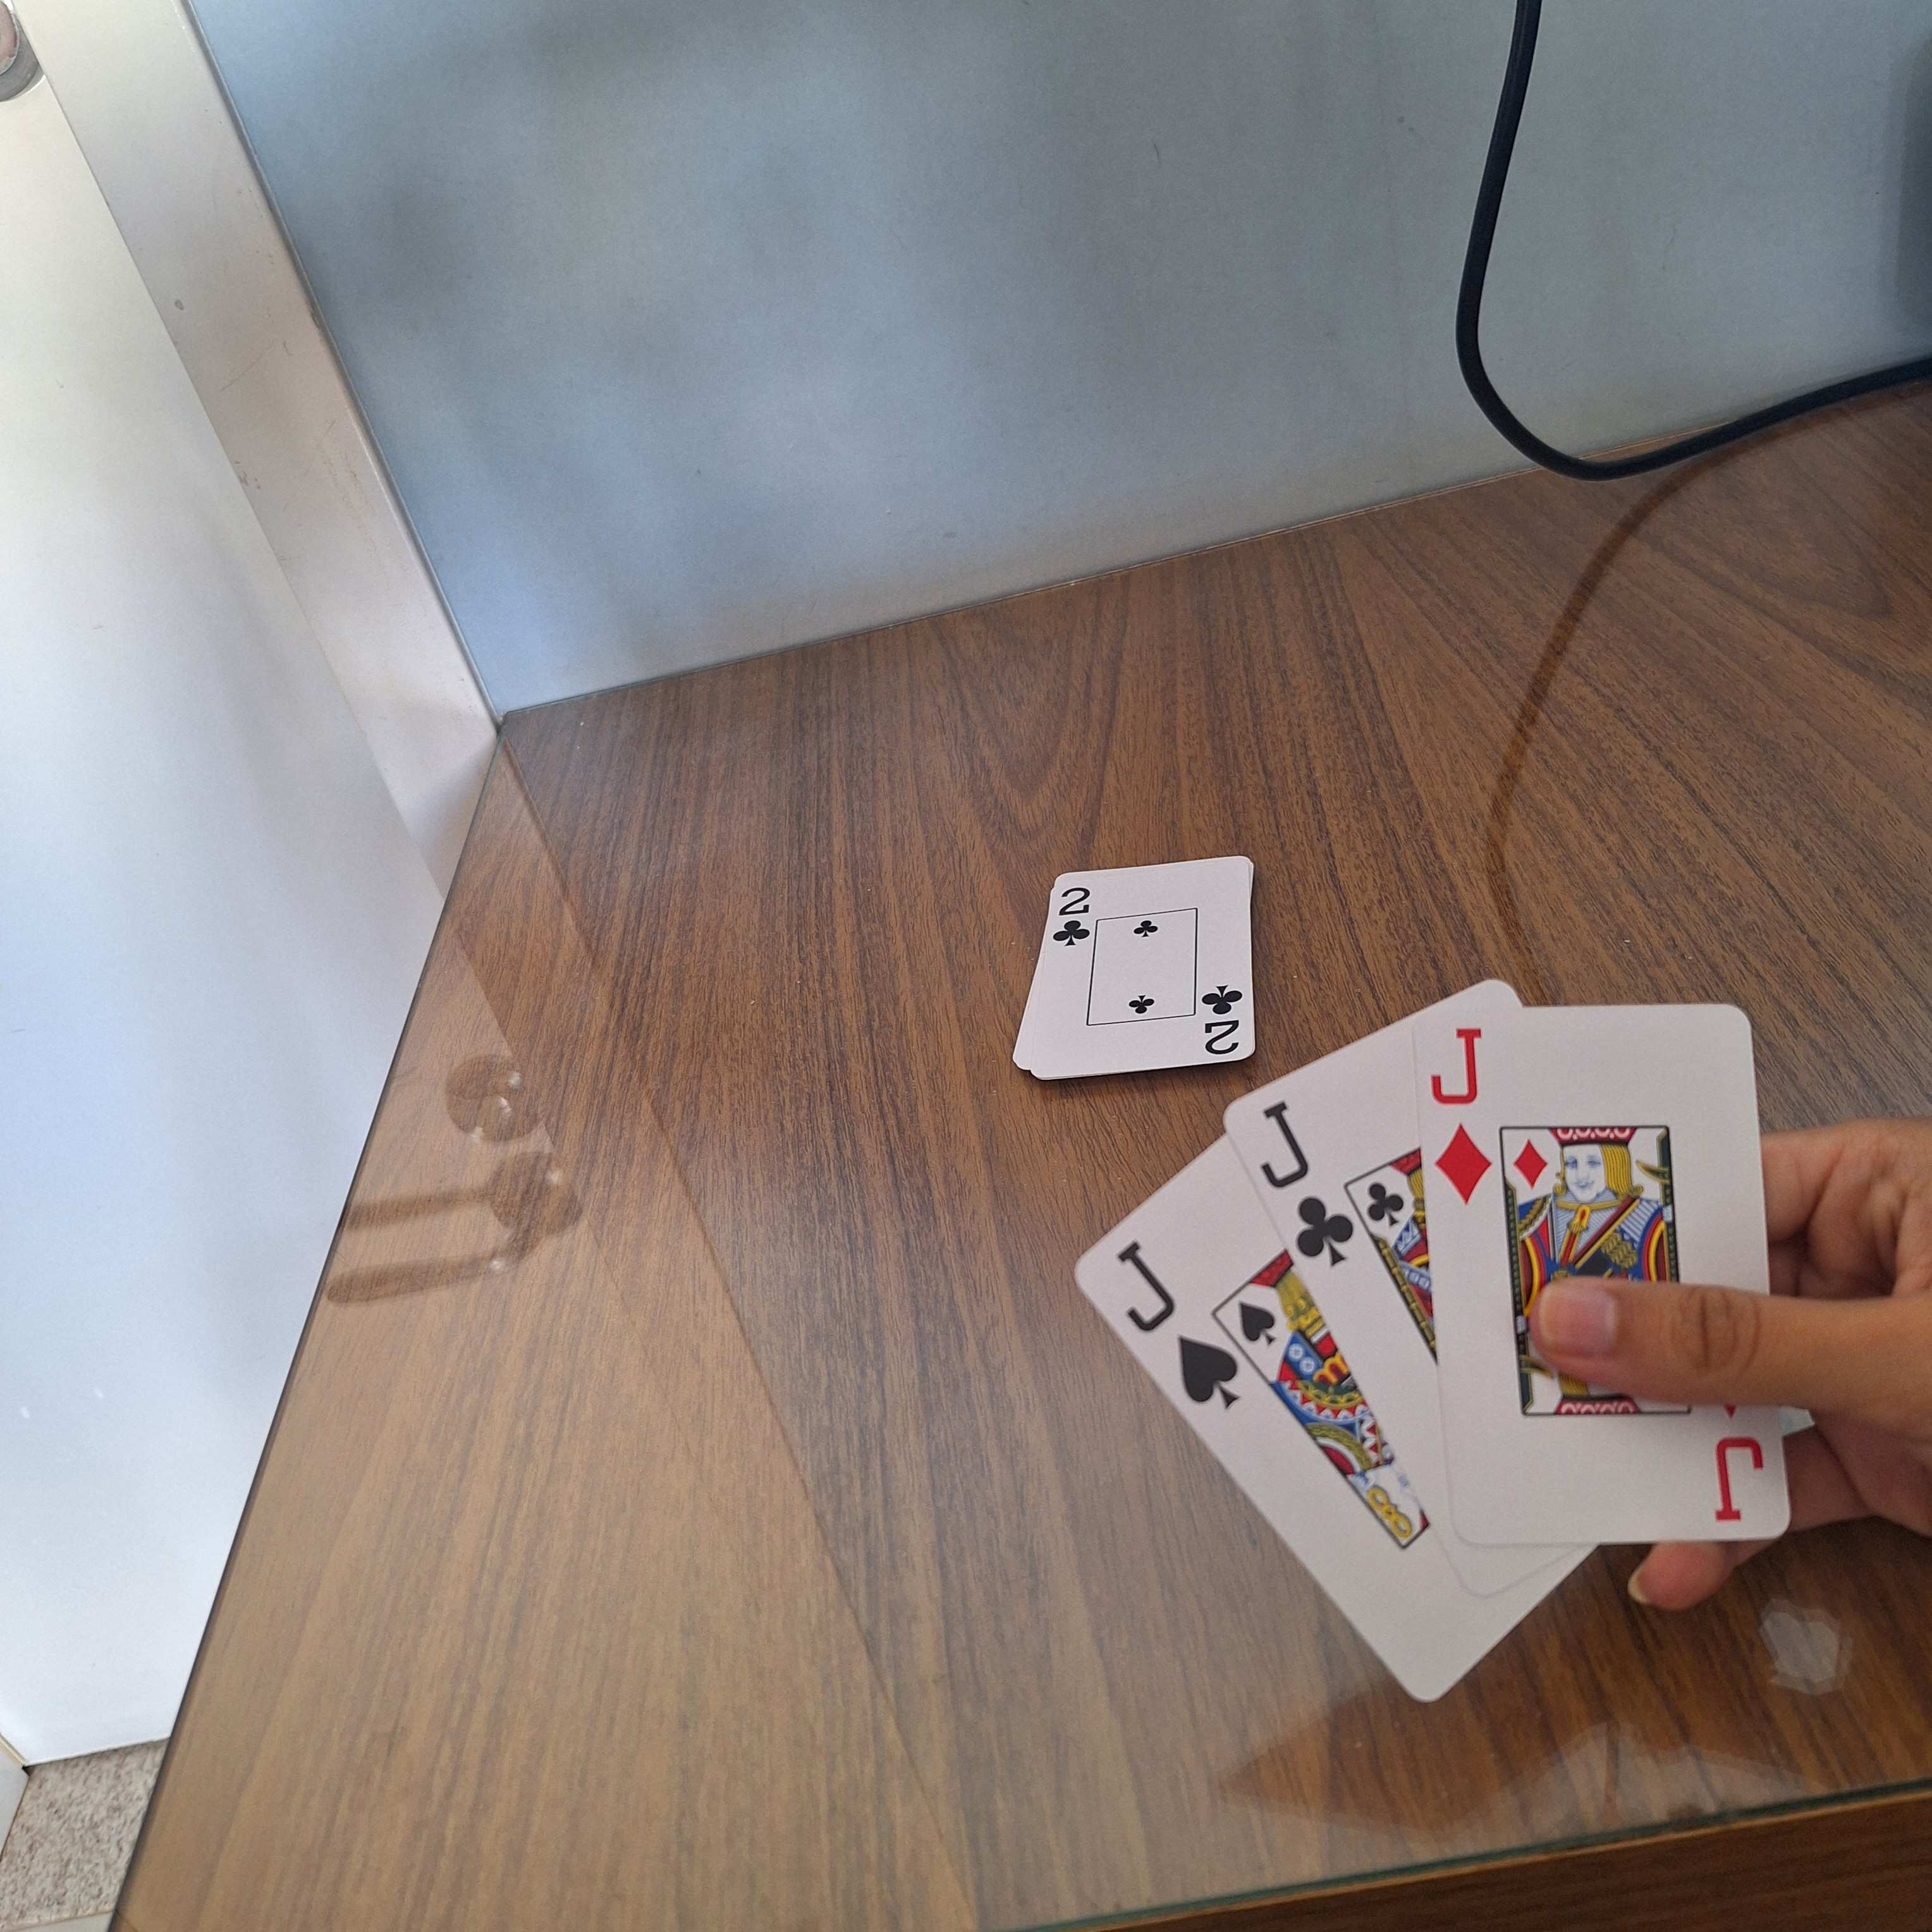2P: (1194, 978, 1251, 1062), (1047, 879, 1097, 959)
JE: (1109, 1230, 1242, 1414)
JO: (1421, 1016, 1500, 1210)
JP: (1253, 1093, 1359, 1276)
